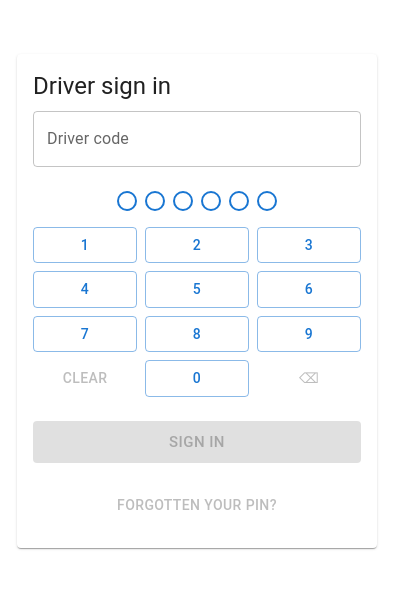
Scenario: Driver PinLoginPage › asks for a PIN reset with the driver code and confirms it
The image size is (395, 609).
In the field labelled "Driver code": (197, 139) 33,111 -> 361,167, type "DRV-0001"
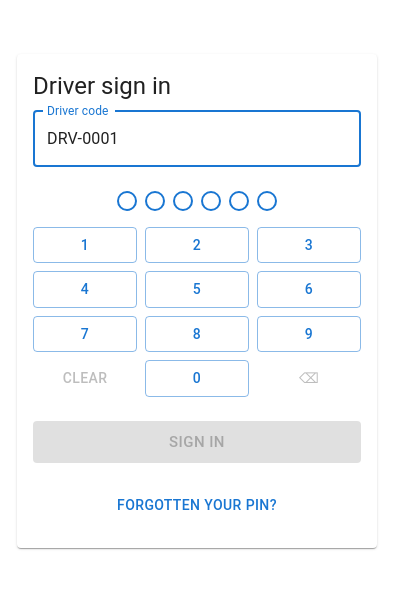
Click the button "Forgotten your PIN?": (197, 505) 33,487 -> 361,524
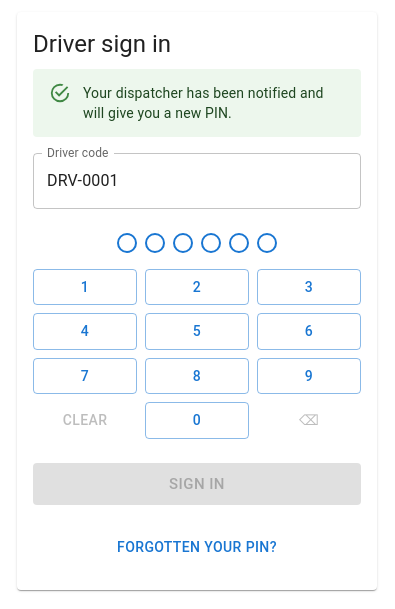
Now the message shows "Your dispatcher has been notified", box 83,85 -> 324,121
